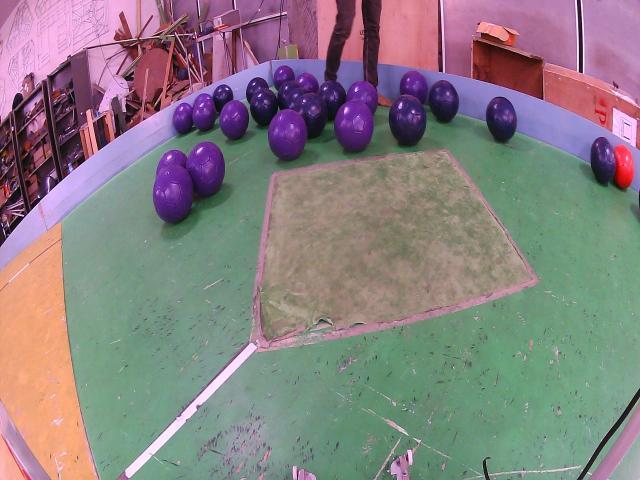jambhalya: (152, 165, 194, 223), (186, 142, 225, 197), (268, 108, 308, 160), (334, 100, 374, 152), (220, 100, 249, 140), (346, 80, 378, 115), (400, 70, 429, 103), (192, 93, 216, 132), (156, 150, 188, 176), (172, 103, 192, 133), (274, 65, 295, 90), (296, 72, 319, 93)
kaalyya: (389, 95, 426, 145), (294, 93, 328, 138), (486, 97, 518, 142), (429, 80, 459, 122), (590, 137, 616, 185), (250, 87, 278, 125), (319, 80, 346, 119), (212, 83, 234, 112), (278, 80, 299, 110), (246, 77, 269, 103), (285, 87, 308, 108)
